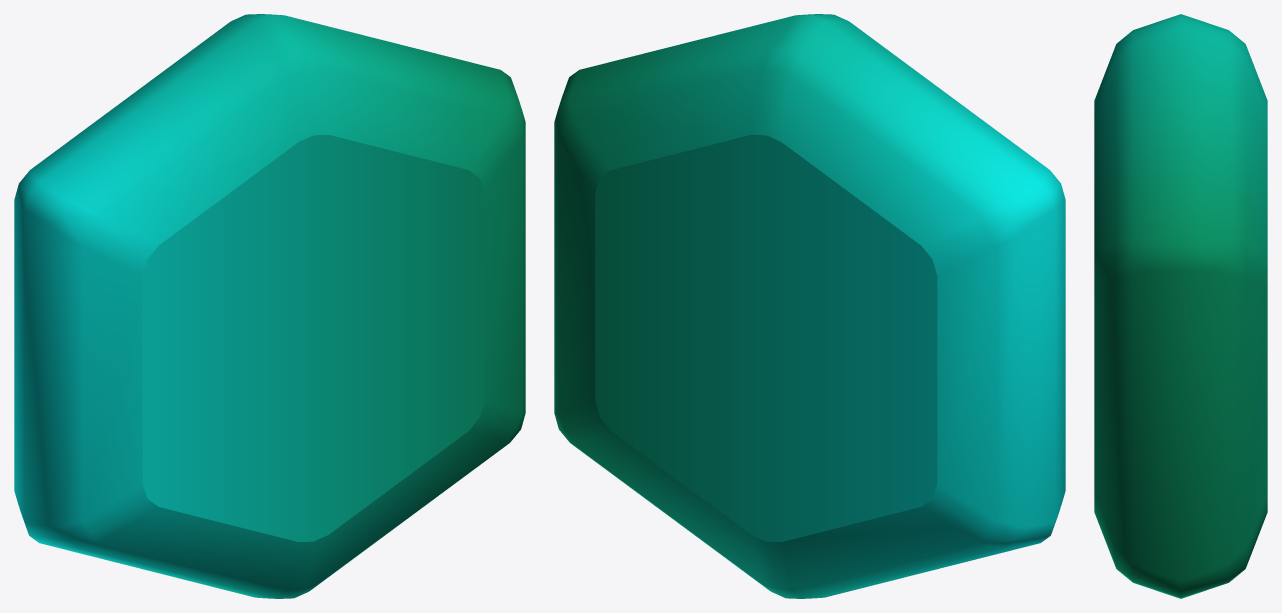
File: Diamond_V2_0.fbx
3 renders of one model, left to right at view 1: azimuth 30°, elevation 25°; view 2: azimuth 150°, elevation 25°; view 3: azimuth 270°, elevation 25°, orthographic.
Parts seen in each view (by area): view 1: Diamond_V2_0; view 2: Diamond_V2_0; view 3: Diamond_V2_0.
Part boxes in pixels (left/top/right/bottom): Diamond_V2_0: left=14, top=14, right=525, bottom=598; Diamond_V2_0: left=554, top=14, right=1065, bottom=598; Diamond_V2_0: left=1094, top=14, right=1267, bottom=598.
Bounding box in the file's own units: 0.4273 × 0.4841 × 0.1318.
